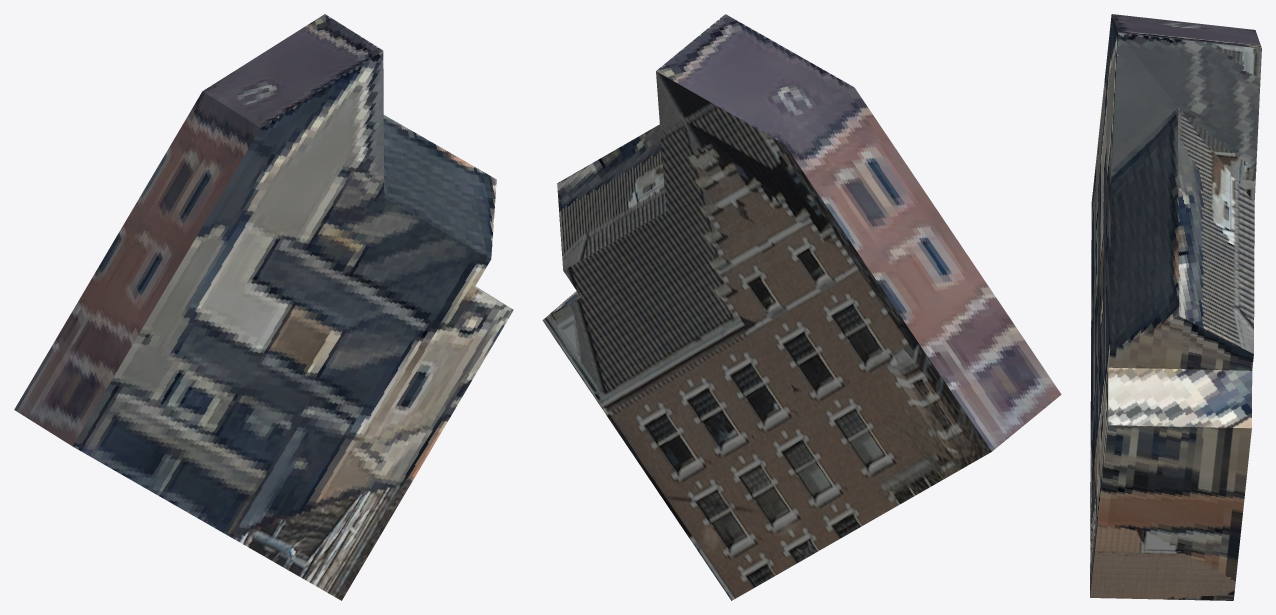
3 renders of one model, left to right at view 1: azimuth 30°, elevation 25°; view 2: azimuth 150°, elevation 25°; view 3: azimuth 270°, elevation 25°, orthographic. The views are drawn at different scales.
Visible parts, largest first — view 1: BAG_0599100000671721 (×3); view 2: BAG_0599100000671721 (×3); view 3: BAG_0599100000671721 (×5).
Part boxes in pixels (bbox=[...]): BAG_0599100000671721 (×3): bbox=[14, 14, 513, 600]; BAG_0599100000671721 (×3): bbox=[542, 14, 1061, 600]; BAG_0599100000671721 (×5): bbox=[1090, 14, 1261, 600].
Bounding box in the file's own units: 19.77 × 21.72 × 5.64.
Materials: 5 (5 with a texture image).
